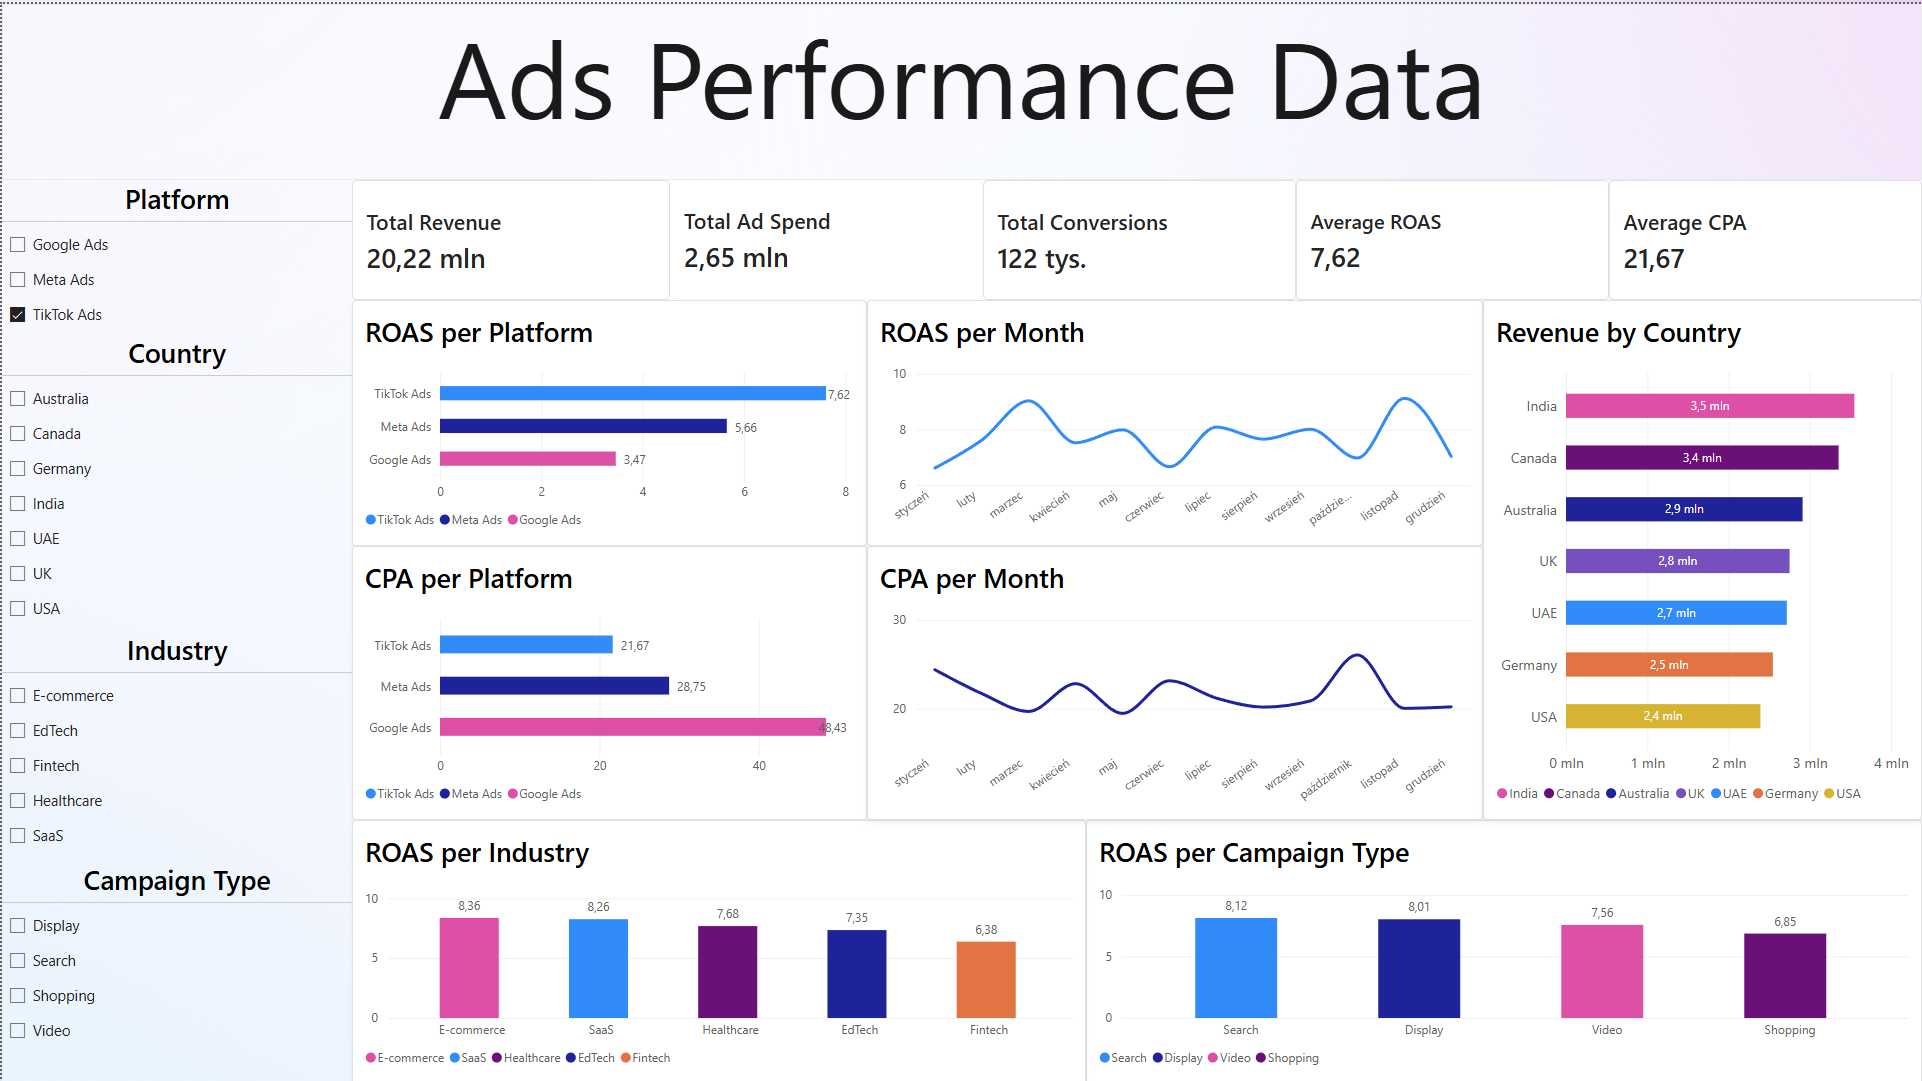

What the dashboard file says about the page in this screenshot:
{"tool":"powerbi","page":{"name":"Strona 1","canvas":[1920,1080],"ordinal":0},"visuals":[{"type":"textbox","box":[0,0,1920,176],"z":0},{"type":"barChart","title":"ROAS per Platform","fields":{"Category":["global_ads_performance_dataset.platform"],"Series":["global_ads_performance_dataset.platform"],"Y":["global_ads_performance_dataset.total_roas"]},"box":[350,296,515,246],"z":1000},{"type":"barChart","title":"CPA per Platform","fields":{"Category":["global_ads_performance_dataset.platform"],"Series":["global_ads_performance_dataset.platform"],"Y":["global_ads_performance_dataset.total_cpa"]},"box":[350,542,515,274],"z":2000},{"type":"columnChart","title":"ROAS per Campaign Type","fields":{"Category":["global_ads_performance_dataset.campaign_type"],"Series":["global_ads_performance_dataset.campaign_type"],"Y":["global_ads_performance_dataset.total_roas"]},"box":[1083.7,815.7,836.3,264],"z":4000},{"type":"columnChart","title":"ROAS per Industry","fields":{"Category":["global_ads_performance_dataset.industry"],"Series":["global_ads_performance_dataset.industry"],"Y":["global_ads_performance_dataset.total_roas"]},"box":[350.4,815.7,733.3,264],"z":5000},{"type":"lineChart","title":"ROAS per Month","fields":{"Category":["global_ads_performance_dataset.date.Variation.Hierarchia dat.Miesiąc"],"Y":["global_ads_performance_dataset.total_roas"]},"box":[865,296,616,246],"z":6000},{"type":"slicer","title":"Platform","fields":{"Values":["global_ads_performance_dataset.platform"]},"box":[0,176,350,154],"z":7000},{"type":"slicer","title":"Country","fields":{"Values":["global_ads_performance_dataset.country"]},"box":[0,330,349.8,296.7],"z":8000},{"type":"slicer","title":"Industry","fields":{"Values":["global_ads_performance_dataset.industry"]},"box":[0,627,350,230],"z":9000},{"type":"slicer","title":"Campaign Type","fields":{"Values":["global_ads_performance_dataset.campaign_type"]},"box":[0,857,349.8,188.6],"z":10000},{"type":"cardVisual","fields":{"Data":["Sum(global_ads_performance_dataset.ad_spend)"]},"box":[668,176,313,119.8],"z":10001},{"type":"cardVisual","fields":{"Data":["Sum(global_ads_performance_dataset.revenue)"]},"box":[350,176,318,120],"z":10002},{"type":"cardVisual","fields":{"Data":["Sum(global_ads_performance_dataset.conversions)"]},"box":[981,176,313,119.8],"z":10003},{"type":"cardVisual","fields":{"Data":["global_ads_performance_dataset.total_roas"]},"box":[1294,176,313,119.9],"z":10004},{"type":"cardVisual","fields":{"Data":["global_ads_performance_dataset.total_cpa"]},"box":[1607,176,313,119.9],"z":10005},{"type":"lineChart","title":"CPA per Month","fields":{"Category":["global_ads_performance_dataset.date.Variation.Hierarchia dat.Miesiąc"],"Y":["global_ads_performance_dataset.total_cpa"]},"box":[865,542,616,274],"z":10006},{"type":"barChart","title":"Revenue by Country","fields":{"Category":["global_ads_performance_dataset.country"],"Series":["global_ads_performance_dataset.country"],"Y":["Sum(global_ads_performance_dataset.revenue)"]},"box":[1481,296,439,520],"z":10007}]}

Visuals, with their boxes in screenshot pixels (x1, y1, x2, y2), scaled from the page's 1920x1080 canvas onto the 1922x1081 screenshot:
textbox: [0, 0, 1921, 176]
"ROAS per Platform" barChart: [350, 296, 866, 543]
"CPA per Platform" barChart: [350, 543, 866, 817]
"ROAS per Campaign Type" columnChart: [1085, 816, 1921, 1080]
"ROAS per Industry" columnChart: [351, 816, 1085, 1080]
"ROAS per Month" lineChart: [866, 296, 1483, 543]
"Platform" slicer: [0, 176, 350, 330]
"Country" slicer: [0, 330, 350, 627]
"Industry" slicer: [0, 628, 350, 858]
"Campaign Type" slicer: [0, 858, 350, 1047]
cardVisual - Sum(global_ads_performance_dataset.ad_spend): [669, 176, 982, 296]
cardVisual - Sum(global_ads_performance_dataset.revenue): [350, 176, 669, 296]
cardVisual - Sum(global_ads_performance_dataset.conversions): [982, 176, 1295, 296]
cardVisual - global_ads_performance_dataset.total_roas: [1295, 176, 1609, 296]
cardVisual - global_ads_performance_dataset.total_cpa: [1609, 176, 1921, 296]
"CPA per Month" lineChart: [866, 543, 1483, 817]
"Revenue by Country" barChart: [1483, 296, 1921, 817]
